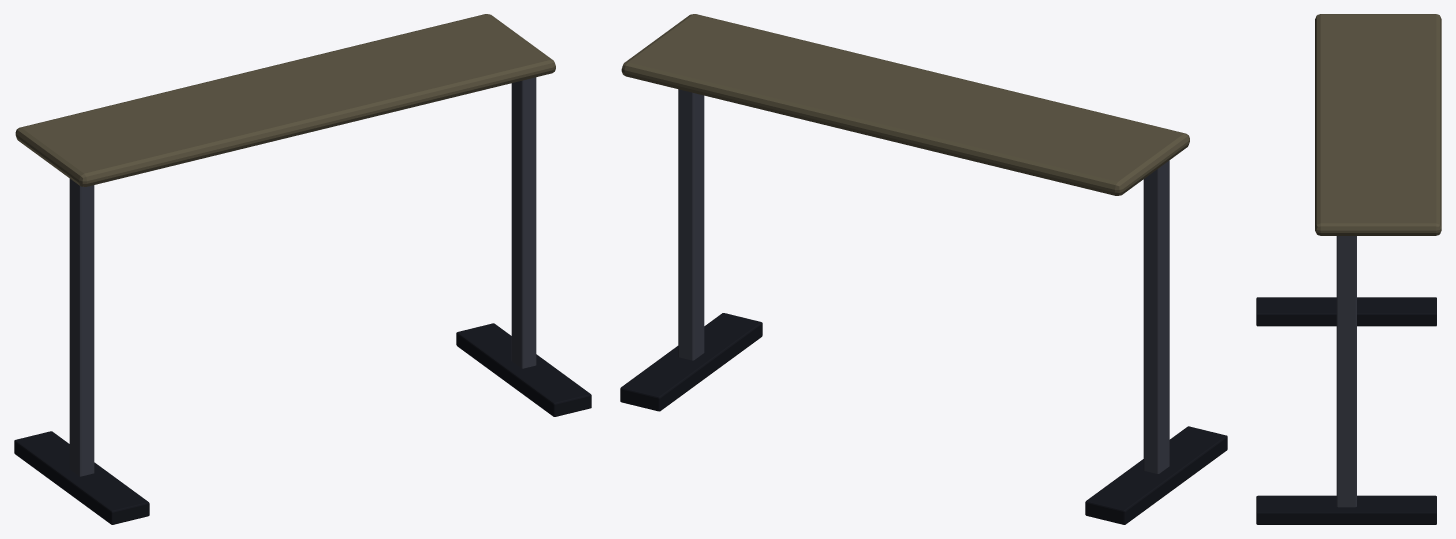
File: vern_tray_table.glb
3 views of the same model, side by side, from view 1: azimuth 30°, elevation 25°; view 2: azimuth 150°, elevation 25°; view 3: azimuth 270°, elevation 25° (orthographic). The views are drawn at different scales.
Visible parts, largest first — view 1: vern_tray_table; view 2: vern_tray_table; view 3: vern_tray_table.
Boxes of the visible parts, x1,y1,x2,y2 form: vern_tray_table: (14,14,591,524); vern_tray_table: (620,14,1227,524); vern_tray_table: (1256,14,1441,524).
Size of the model in its own units: 1.13 by 0.73 by 0.41.
